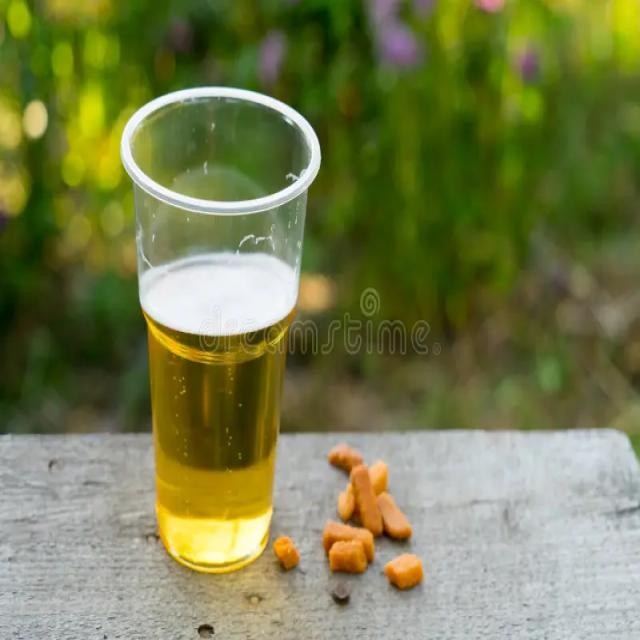Cup: (120, 77, 320, 588)
